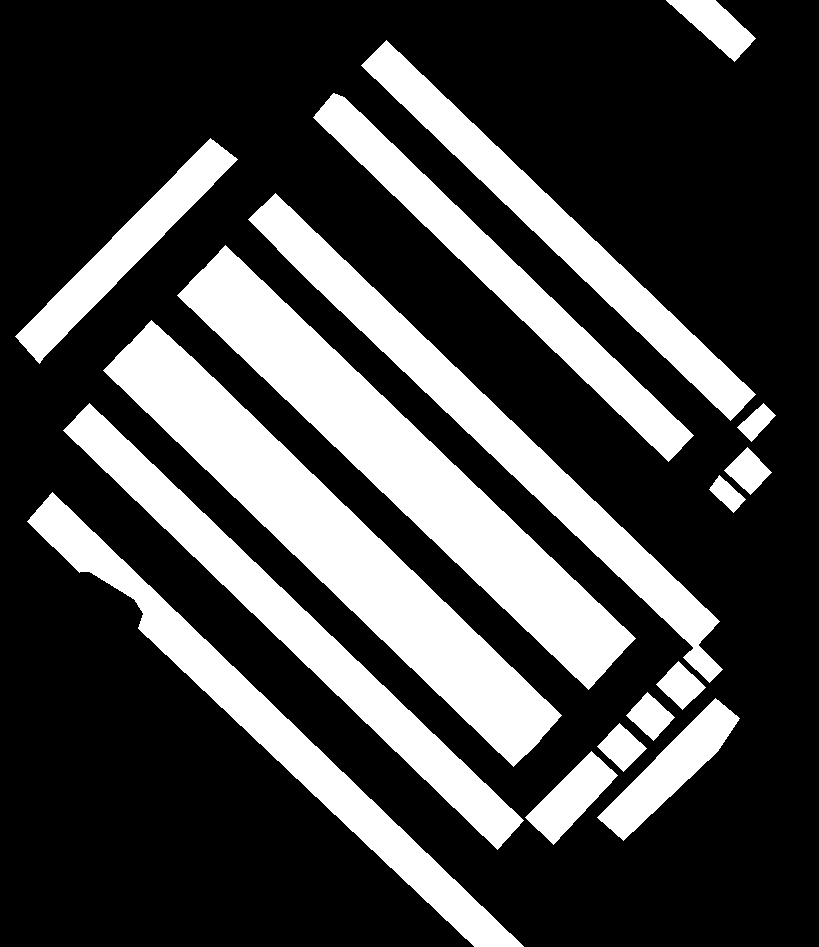parkingspot: (27, 492, 523, 947), (248, 193, 719, 648), (63, 403, 523, 849), (103, 344, 539, 766), (127, 320, 561, 742), (201, 245, 635, 665), (177, 269, 611, 689), (361, 40, 755, 420), (313, 93, 693, 461), (15, 138, 237, 363), (597, 698, 739, 840), (525, 751, 617, 844), (666, 0, 755, 61), (656, 661, 705, 709), (597, 723, 646, 771), (626, 692, 674, 740), (724, 447, 771, 494), (683, 644, 722, 682), (737, 403, 775, 441), (709, 475, 745, 512)
